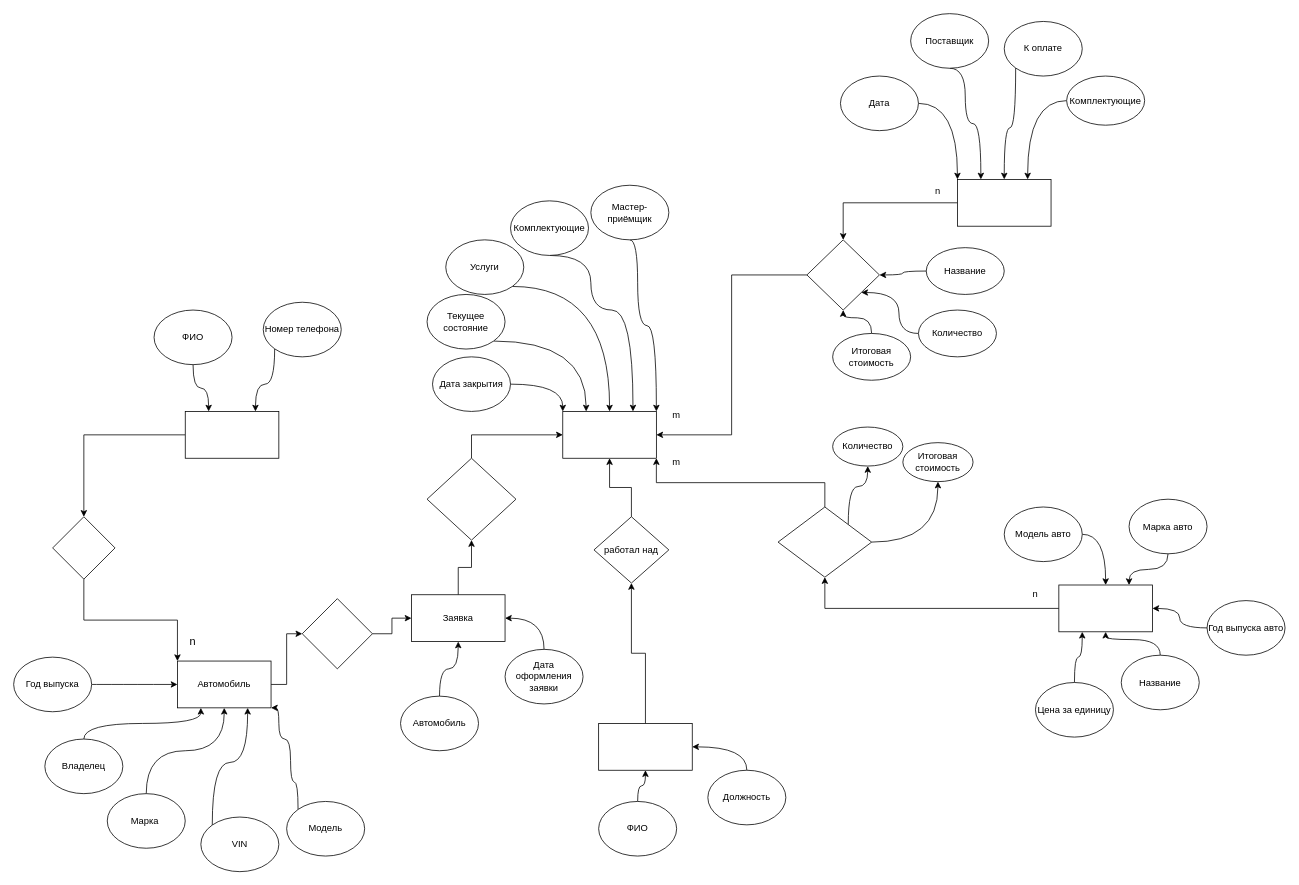
This 1299x885 diagram has some shape labels left out. Each missing label, with the box of its shape:
Договор закупки комплектующих: (957, 179, 1051, 226)
Заказ-наряд: (562, 411, 656, 458)
Каталог услуг: (1058, 584, 1152, 632)
Клиент: (184, 411, 279, 458)
обеспечивает: (806, 239, 879, 310)
передаёт: (52, 516, 115, 579)
Персонал: (598, 723, 692, 770)
превращается в: (426, 457, 516, 540)
указывается в: (301, 598, 372, 669)
формируется на основе: (777, 506, 872, 577)
